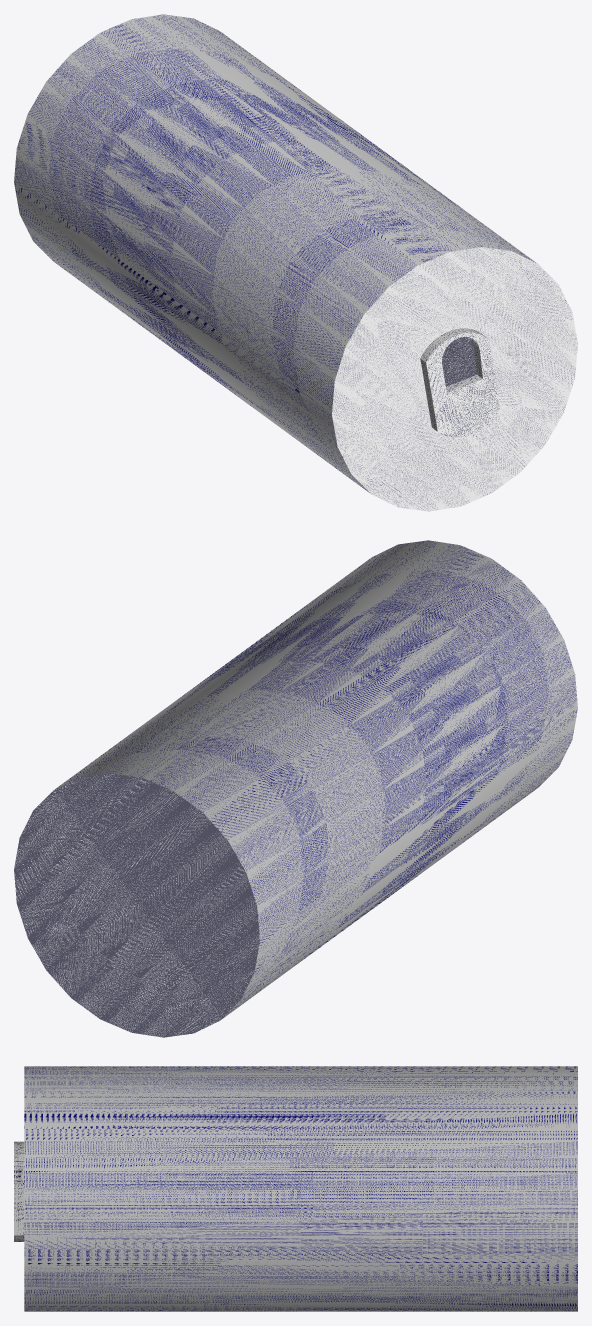
File: model_align.obj
3 views of the same model, one above another, from view 1: azimuth 30°, elevation 25°; view 2: azimuth 150°, elevation 25°; view 3: azimuth 270°, elevation 25° (orthographic). The views are drawn at different scales.
Parts seen in each view (by area): view 1: mesh1_mesh1-geometry; view 2: mesh1_mesh1-geometry; view 3: mesh1_mesh1-geometry.
Part boxes in pixels (x1,y1,x2,y2): mesh1_mesh1-geometry: [14, 14, 577, 511]; mesh1_mesh1-geometry: [14, 540, 577, 1037]; mesh1_mesh1-geometry: [14, 1066, 577, 1311].
Bounding box in the file's own units: 0.0624 × 0.0624 × 0.1422.
